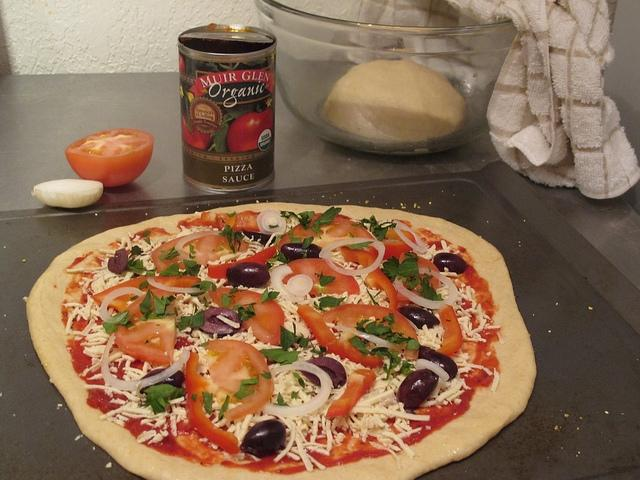onion: (101, 332, 190, 390), (258, 360, 332, 418), (394, 268, 458, 310), (318, 237, 386, 276), (32, 179, 104, 208), (334, 324, 403, 352), (175, 230, 223, 266), (98, 287, 144, 323), (270, 264, 304, 302), (392, 220, 428, 254), (147, 277, 204, 293), (415, 359, 450, 382), (257, 210, 286, 236), (287, 274, 313, 295), (217, 316, 240, 326)
tomato: (90, 276, 202, 364), (185, 350, 239, 454), (204, 340, 274, 420), (296, 305, 384, 368), (65, 128, 154, 188), (322, 305, 418, 359), (208, 288, 284, 344), (278, 213, 375, 251), (152, 235, 248, 273), (282, 258, 361, 298), (326, 369, 376, 417), (208, 244, 278, 278), (226, 107, 273, 152), (436, 304, 463, 358), (366, 267, 398, 312), (185, 124, 213, 150), (231, 210, 261, 232)
